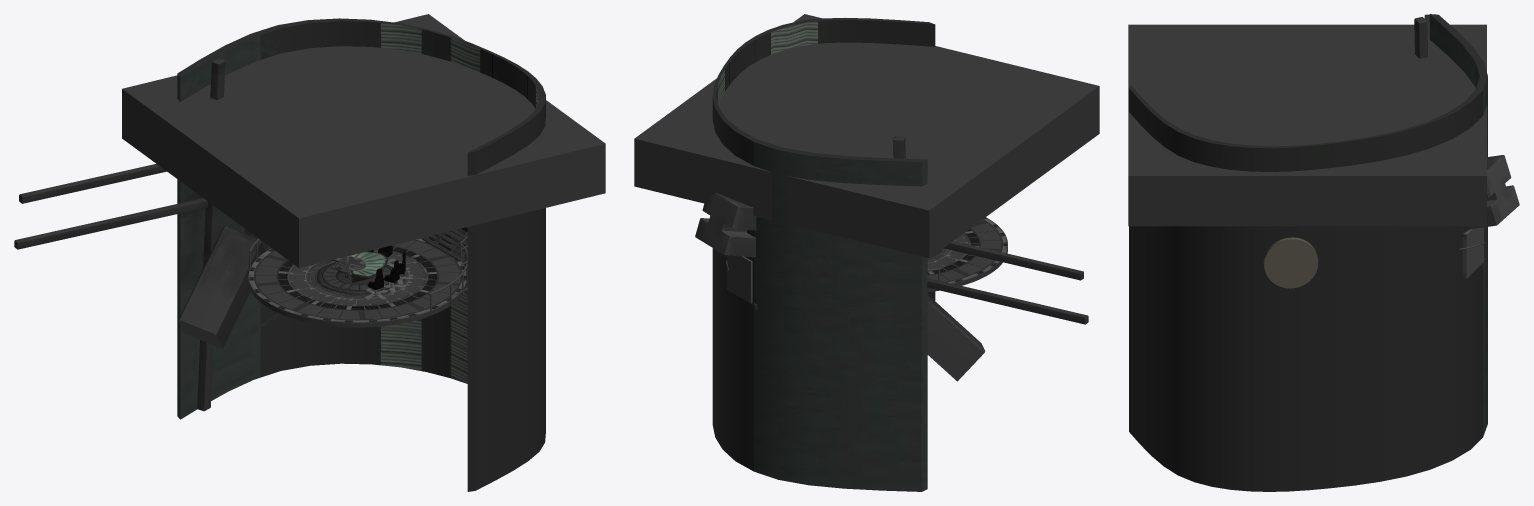
3 renders of one model, left to right at view 1: azimuth 30°, elevation 25°; view 2: azimuth 150°, elevation 25°; view 3: azimuth 270°, elevation 25°, orthographic. The views are drawn at different scales.
Parts seen in each view (by area): view 1: pCube21_lambert6_0, background_wuvs:RoadKillOut_lambert52_0, floor_wuvs:RoadKillOut_lambert2_0, GiantboxThing_wuvs:RoadKillOut_lambert19_0, pCube25_lambert16_0, pCube27_lambert18_0, pCylinder3_mi_metallic_paint_x1_0, pCube26_lambert17_0, polySurface505_lambert3_0, polySurface781_blinn2_0; view 2: background_wuvs:RoadKillOut_lambert52_0, pCube21_lambert6_0, floor_wuvs:RoadKillOut_lambert2_0, wallthing_wuvs:RoadKillOut_lambert54_0, GiantboxThing_wuvs:RoadKillOut_lambert19_0, pCube27_lambert18_0, pCube26_lambert17_0, door_wuvs:RoadKillOut_lambert53_0; view 3: background_wuvs:RoadKillOut_lambert52_0, pCube21_lambert6_0, pCylinder2_phong3_0, wallthing_wuvs:RoadKillOut_lambert54_0, door_wuvs:RoadKillOut_lambert53_0, pCube25_lambert16_0.
Part boxes in pixels (<box>): pCube21_lambert6_0: <box>122,14,605,267</box>; background_wuvs:RoadKillOut_lambert52_0: <box>177,18,545,491</box>; floor_wuvs:RoadKillOut_lambert2_0: <box>248,238,466,327</box>; GiantboxThing_wuvs:RoadKillOut_lambert19_0: <box>178,226,265,348</box>; pCube25_lambert16_0: <box>197,58,225,411</box>; pCube27_lambert18_0: <box>14,198,207,249</box>; pCylinder3_mi_metallic_paint_x1_0: <box>249,235,467,315</box>; pCube26_lambert17_0: <box>19,164,166,203</box>; polySurface505_lambert3_0: <box>422,230,467,260</box>; polySurface781_blinn2_0: <box>331,251,388,278</box>; background_wuvs:RoadKillOut_lambert52_0: <box>712,18,935,491</box>; pCube21_lambert6_0: <box>634,14,1099,258</box>; floor_wuvs:RoadKillOut_lambert2_0: <box>927,217,1007,292</box>; wallthing_wuvs:RoadKillOut_lambert54_0: <box>695,193,756,257</box>; GiantboxThing_wuvs:RoadKillOut_lambert19_0: <box>927,295,985,381</box>; pCube27_lambert18_0: <box>927,278,1088,324</box>; pCube26_lambert17_0: <box>943,241,1083,280</box>; door_wuvs:RoadKillOut_lambert53_0: <box>726,255,752,303</box>; background_wuvs:RoadKillOut_lambert52_0: <box>1129,14,1487,491</box>; pCube21_lambert6_0: <box>1128,24,1486,226</box>; pCylinder2_phong3_0: <box>1263,237,1318,288</box>; wallthing_wuvs:RoadKillOut_lambert54_0: <box>1459,155,1519,230</box>; door_wuvs:RoadKillOut_lambert53_0: <box>1462,227,1483,278</box>; pCube25_lambert16_0: <box>1414,17,1427,58</box>.
Bounding box in the file's own units: 27.83 × 21.3 × 21.09.
48 materials, 47 textured.
